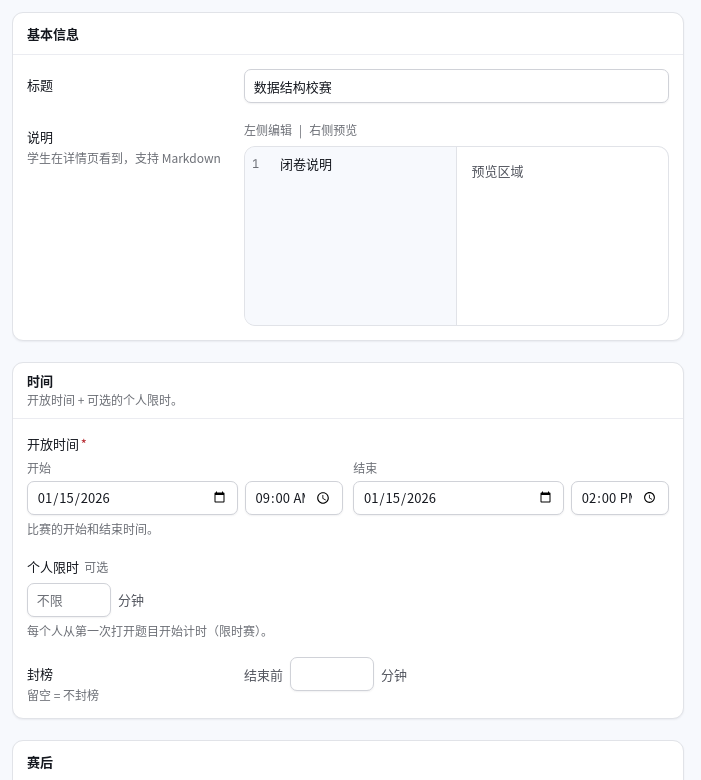
Test: contest and exam settings › shows one unsaved change after the title changes and restores it on discard
Expected: the text "学生在详情页看到，支持 Markdown" is shown, [27,149,223,167]
Expected: the button "放弃" is not shown
Replace the text in the field labelled "标题" with "数据结构校赛修订": (456, 86) [244,69,669,103]
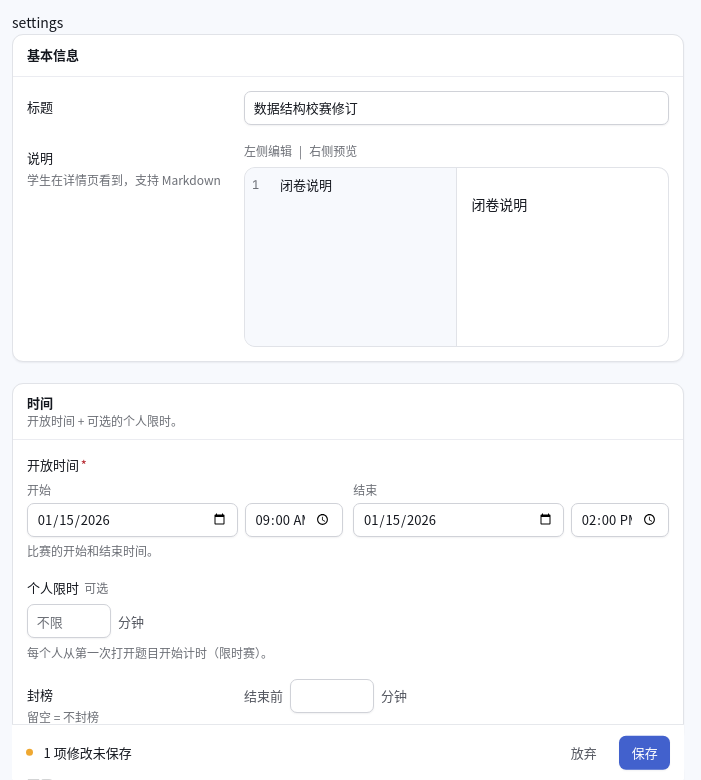
Result: the text "1 项修改未保存" is shown at [44,743,132,762]
Result: the button "保存" is shown at [620,736,670,770]
Result: the button "放弃" is shown
Click the button "放弃": (584, 752) [558,736,609,770]
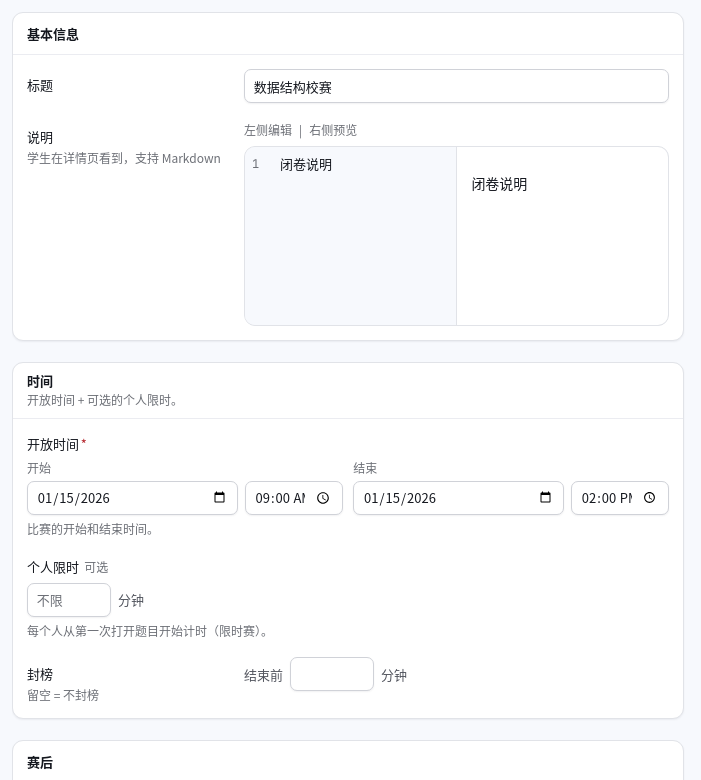
Result: the field labelled "标题" holds "数据结构校赛" at [244,69,669,103]
Result: the text "1 项修改未保存" is gone
Result: the button "放弃" is gone
